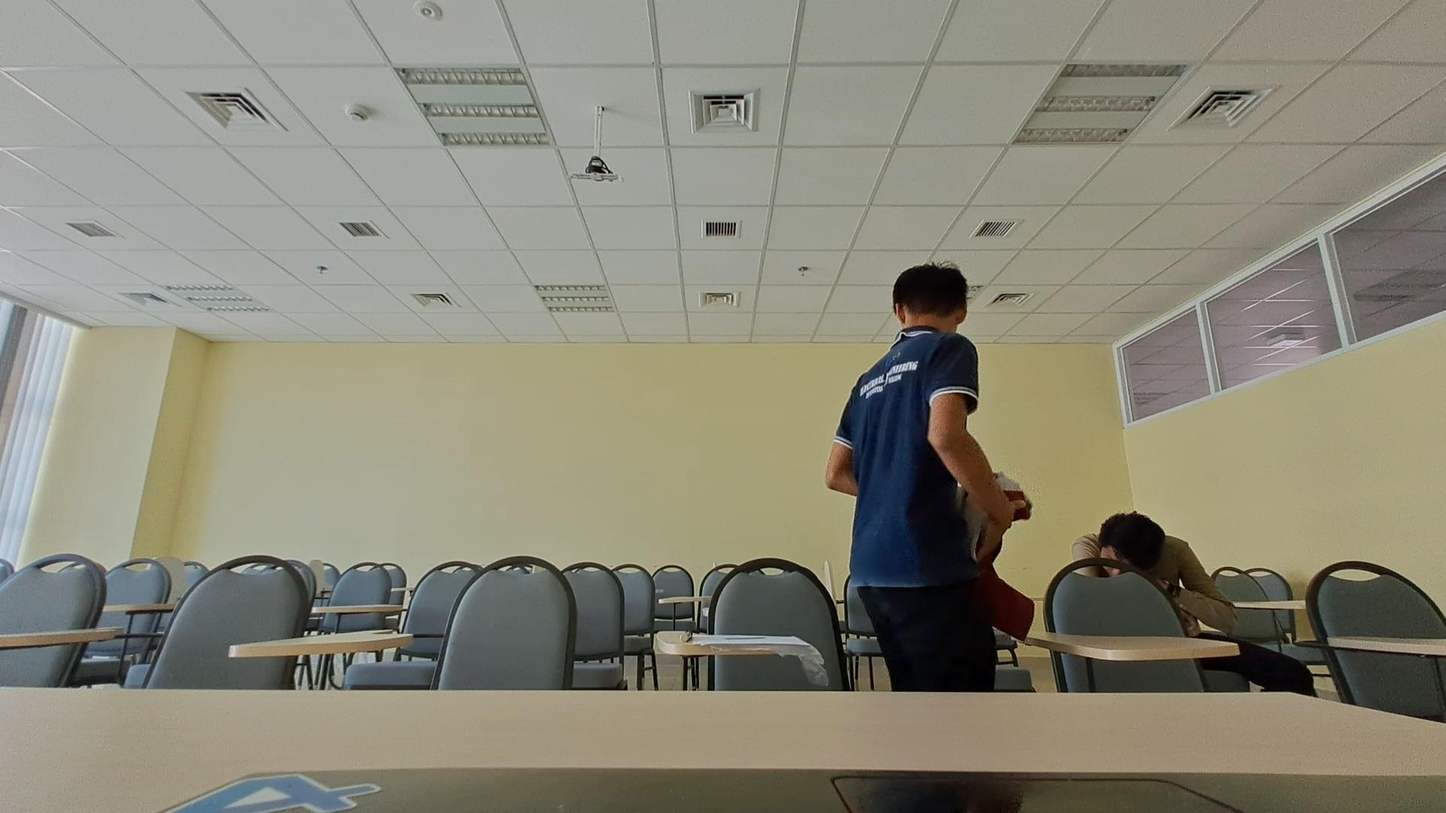sleep: (1064, 502, 1237, 640)
